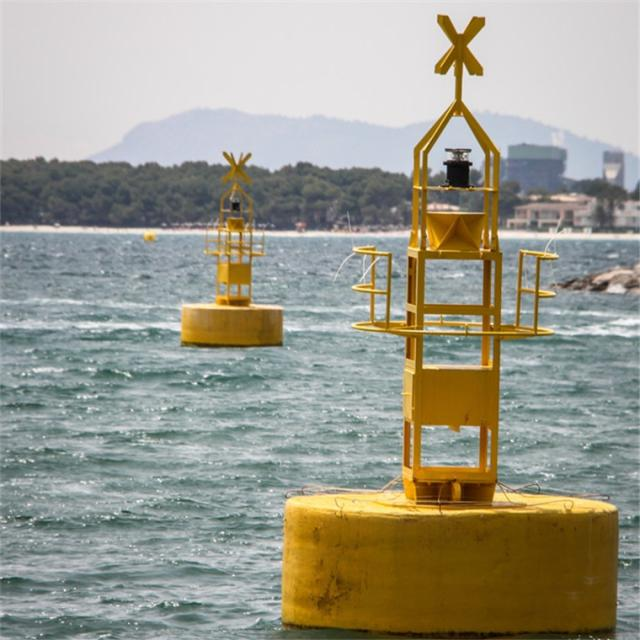buoy: (278, 8, 623, 637), (178, 148, 284, 348)
